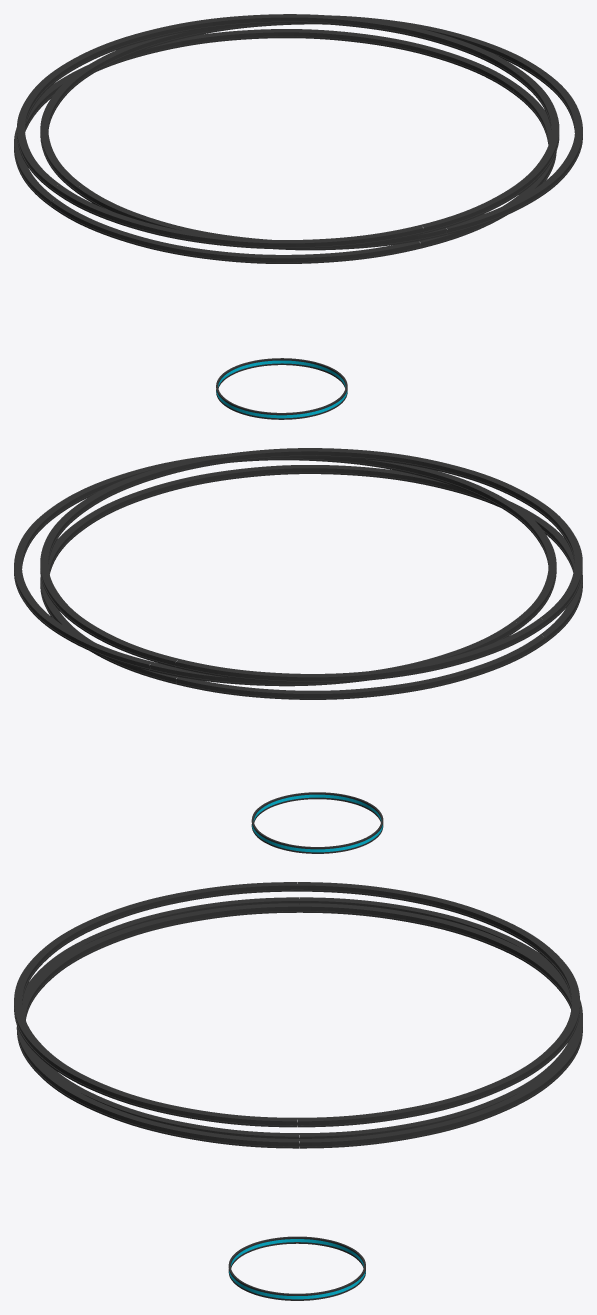
The model's file is ring.FBX.
3 renders of one model, top to bottom at view 1: azimuth 30°, elevation 25°; view 2: azimuth 150°, elevation 25°; view 3: azimuth 270°, elevation 25°, orthographic. The views are drawn at different scales.
Parts seen in each view (by area): view 1: ring; view 2: ring; view 3: ring.
Boxes of the visible parts, <box> form: ring: <box>14,14,582,419</box>; ring: <box>14,448,582,853</box>; ring: <box>14,882,582,1300</box>.
Size of the model in its own units: 639 by 608 by 322.
